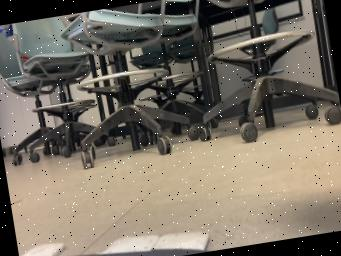street: (76, 248, 210, 256), (76, 248, 210, 256), (76, 248, 210, 256), (76, 248, 210, 256), (76, 248, 210, 256), (76, 248, 210, 256)
